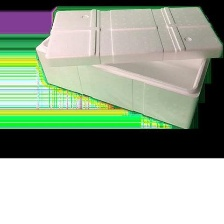foam_box: (32, 0, 224, 132)
